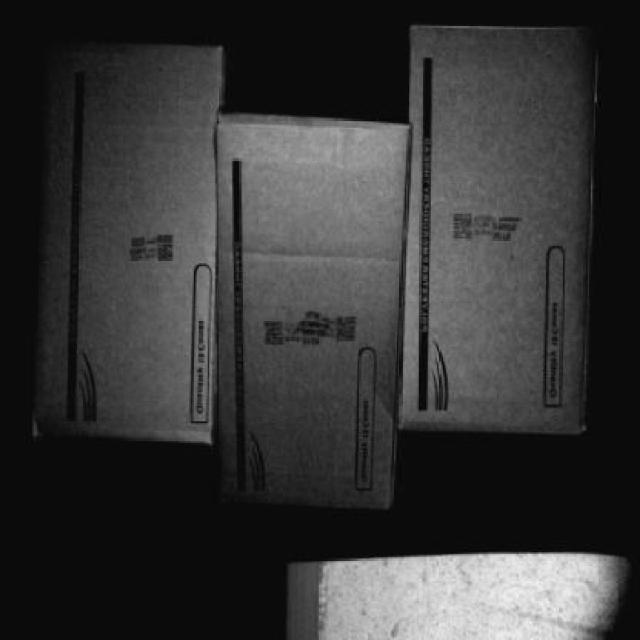cardboxes: (403, 21, 603, 437), (30, 49, 222, 436), (213, 120, 405, 422)
